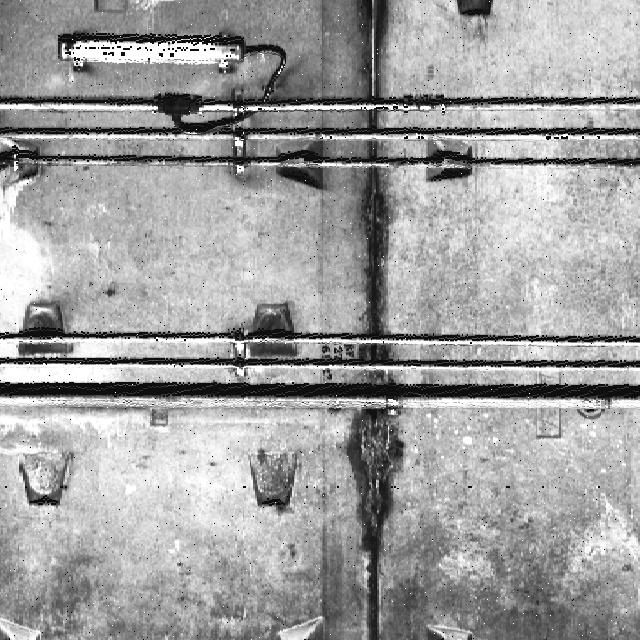leakage: (336, 1, 403, 341), (332, 407, 412, 628)
